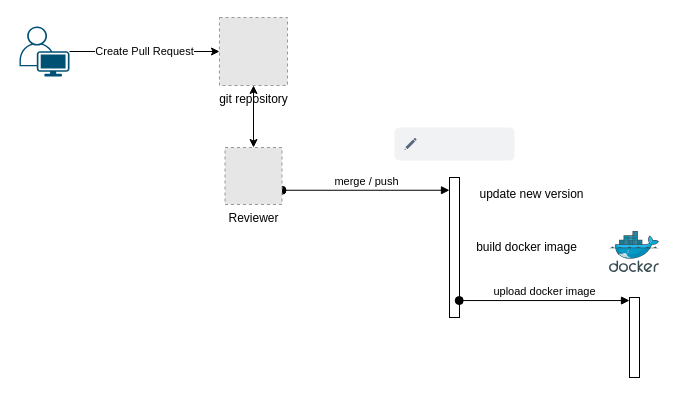
Image size: 677x395. Some labels were removed from this diagram. Grey dashed boxes stand in for pictures. The shapes that lost their labels are listed below. From the top down, each one's centre as x and y in pixels, then its label:
At point 44,51: "Developer".
At point 454,143: "github actions".
